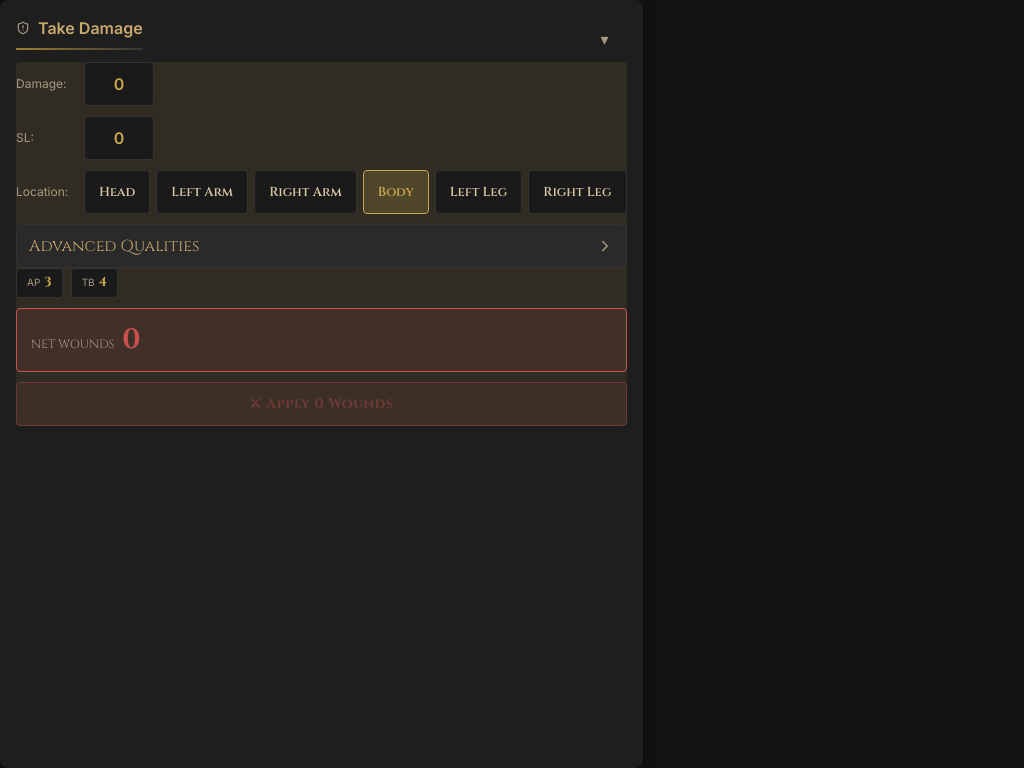
Test: TakeDamagePanel — inapplicable toggles omitted (Req 3.4) › shows "Frontal Missile" only at the Head location with a Bascinet worn
The image size is (1024, 768).
Click the button "Advanced Qualities" at (114,246), box [16, 224, 626, 268]
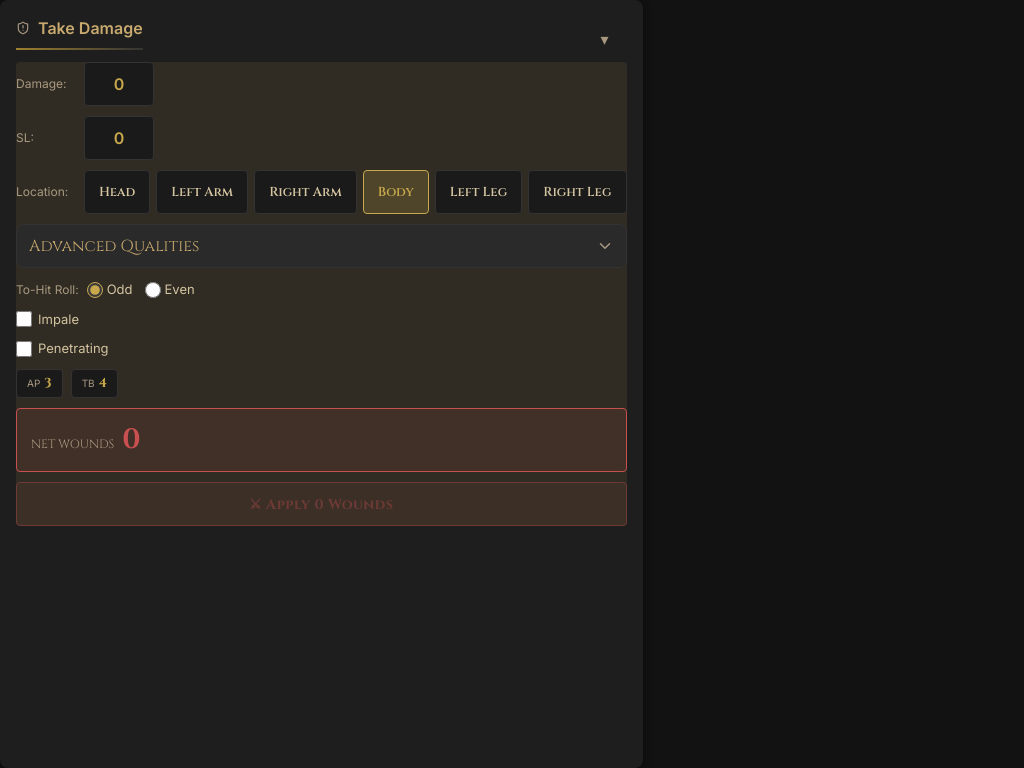
Head location → toggle appears.
Click the radio button labelled "Head" at (117,192), box [84, 170, 150, 214]
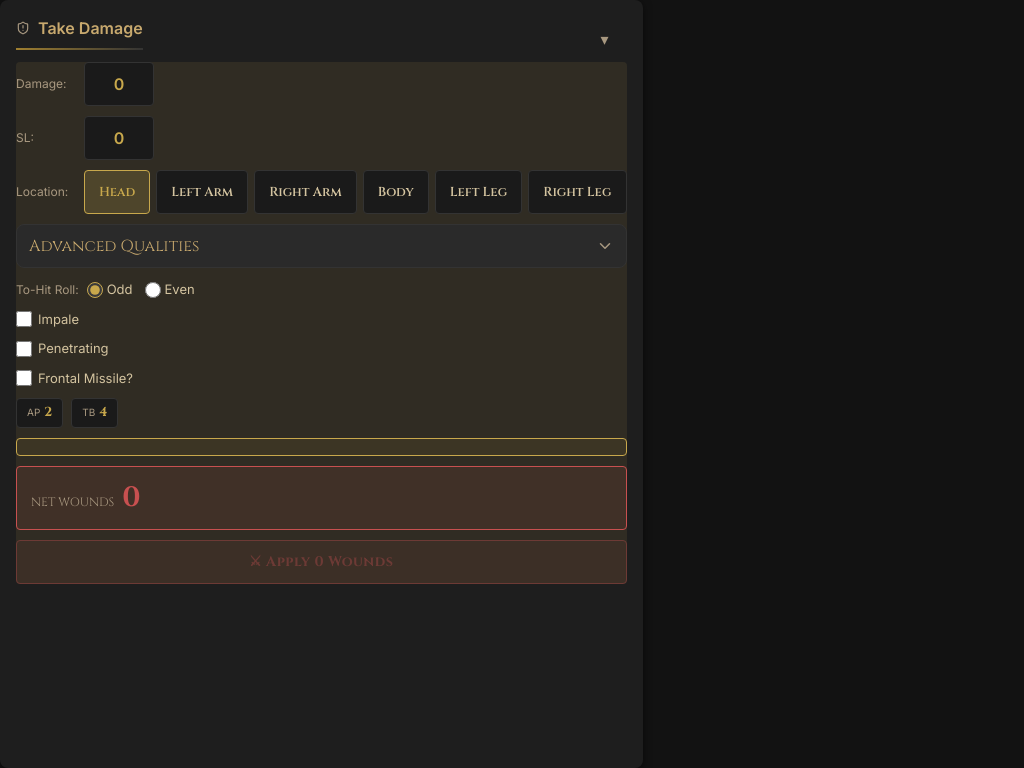
Now the checkbox with test id "frontal-missile-toggle" is shown, box [16, 370, 32, 386]
